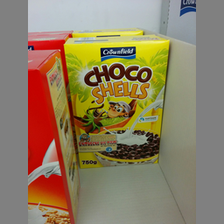cereal: (64, 36, 171, 170)
